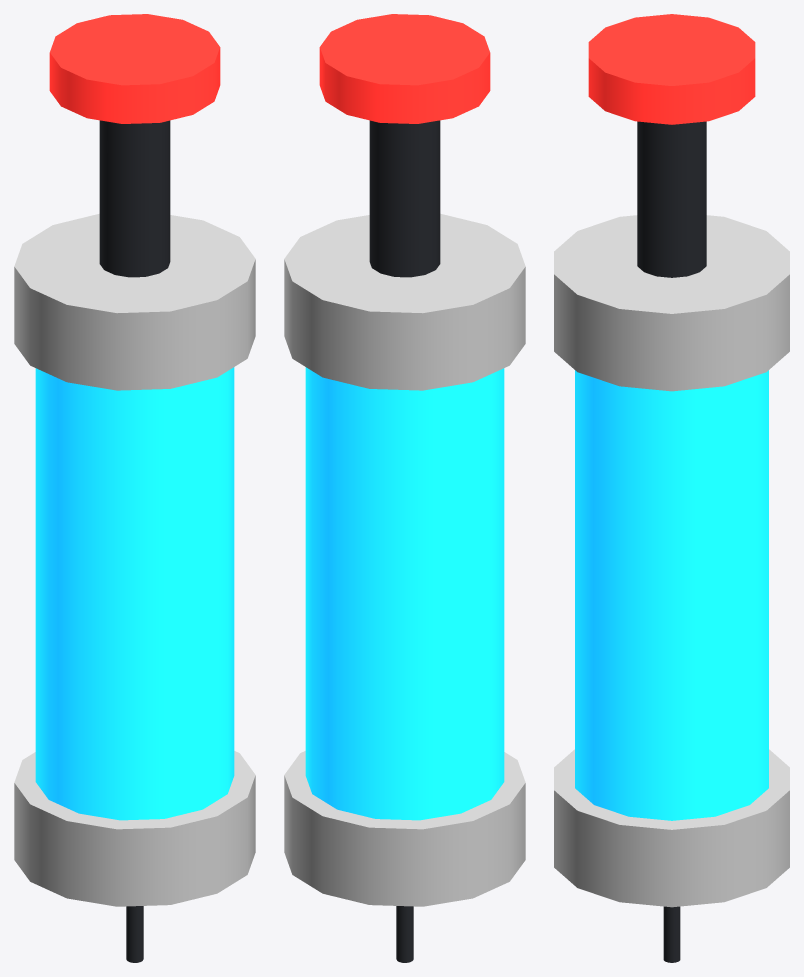
Rendered from adrenalina.glb.
3 views of the same model, side by side, from view 1: azimuth 30°, elevation 25°; view 2: azimuth 150°, elevation 25°; view 3: azimuth 270°, elevation 25° (orthographic).
Parts seen in each view (by area): view 1: Tubo, Tapa, Base, Boton, Embolo, Aguja; view 2: Tubo, Tapa, Base, Boton, Embolo, Aguja; view 3: Tubo, Tapa, Base, Boton, Embolo, Aguja.
Boxes of the visible parts, <box> form: Tubo: <box>35,367,234,820</box>; Tapa: <box>14,213,255,390</box>; Base: <box>14,751,255,906</box>; Boton: <box>49,14,220,123</box>; Embolo: <box>99,120,170,277</box>; Aguja: <box>126,906,143,962</box>; Tubo: <box>305,367,504,820</box>; Tapa: <box>284,213,525,390</box>; Base: <box>284,751,525,906</box>; Boton: <box>319,14,490,123</box>; Embolo: <box>369,120,440,277</box>; Aguja: <box>396,906,413,962</box>; Tubo: <box>575,370,768,820</box>; Tapa: <box>554,215,789,391</box>; Base: <box>554,749,789,907</box>; Boton: <box>588,14,755,124</box>; Embolo: <box>637,121,706,277</box>; Aguja: <box>663,906,680,962</box>.
Size of the model in its own units: 0.17 by 0.705 by 0.1657.
